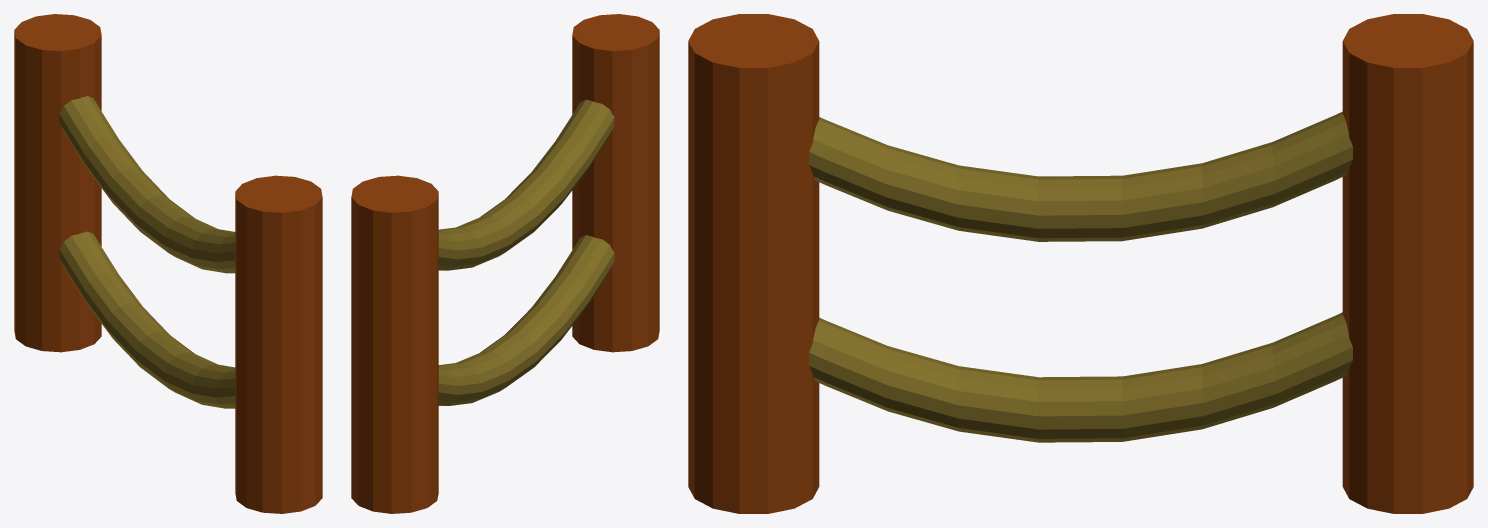
Rendered from barrière test itération 1.fbx.
3 renders of one model, left to right at view 1: azimuth 30°, elevation 25°; view 2: azimuth 150°, elevation 25°; view 3: azimuth 270°, elevation 25°, orthographic. The views are drawn at different scales.
Parts seen in each view (by area): view 1: barrière.001; view 2: barrière.001; view 3: barrière.001.
Part boxes in pixels (x1=…): barrière.001: x1=14, y1=14, x2=322, y2=513; barrière.001: x1=351, y1=14, x2=659, y2=513; barrière.001: x1=688, y1=14, x2=1473, y2=513.
Size of the model in its own units: 19.5 by 75.2 by 120.
